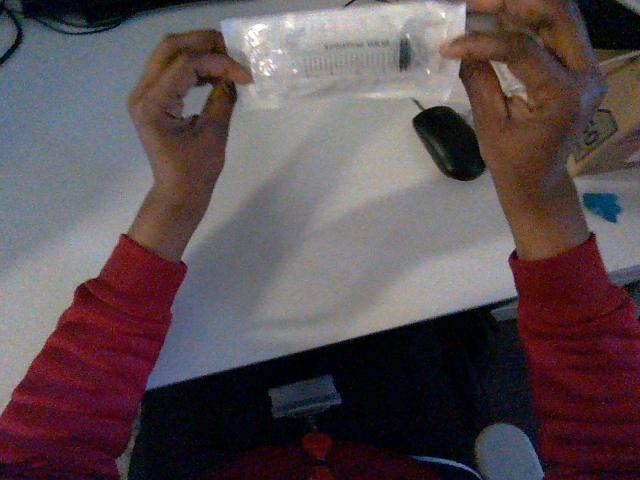syringe: (222, 1, 465, 109)
